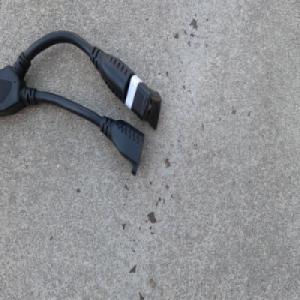Wire: (0, 28, 162, 175)
